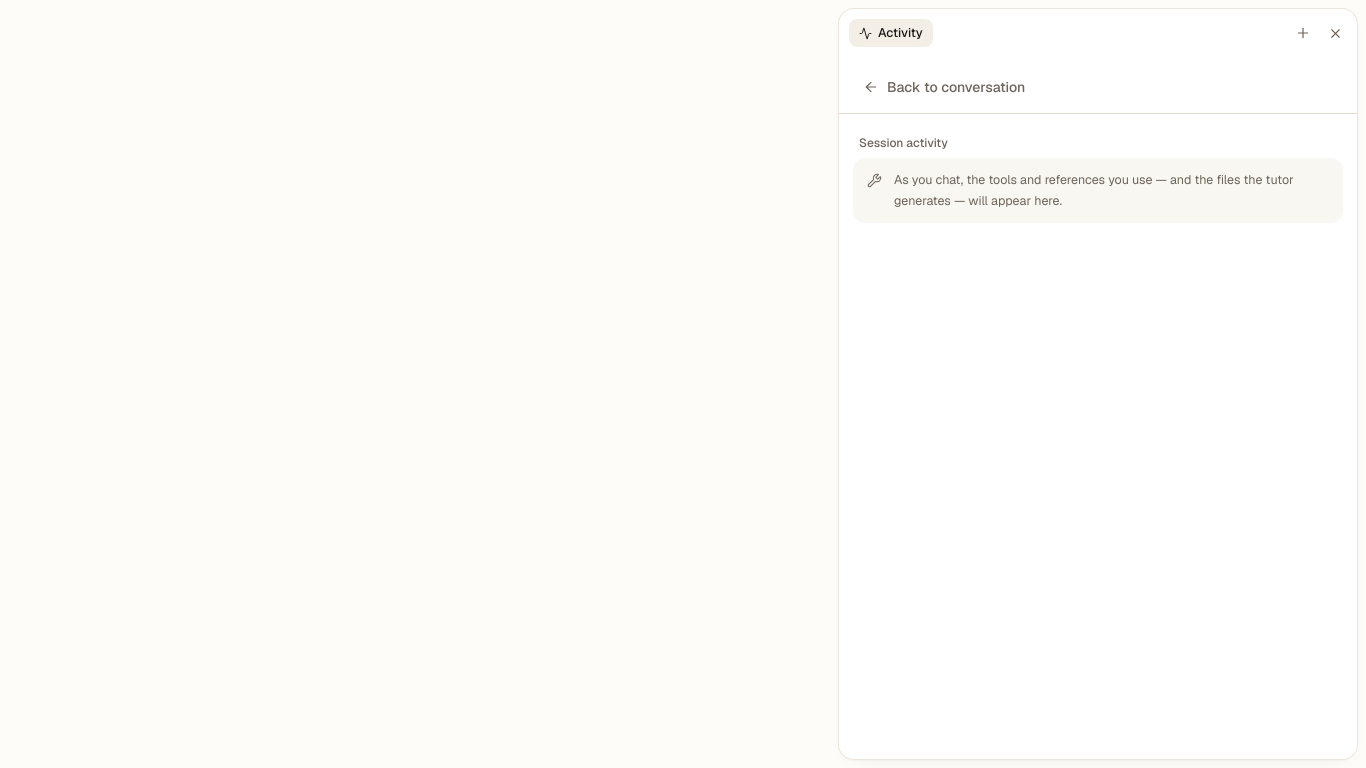
Test: names every tool on the launcher, and opening things lives there alone
Expected: the button "Back to conversation" is shown, [853,69,1035,105]
Expected: the text "Open a local file" is not shown
Click the button named "New tab".
click(1303, 33)  # box [1289,19,1317,47]
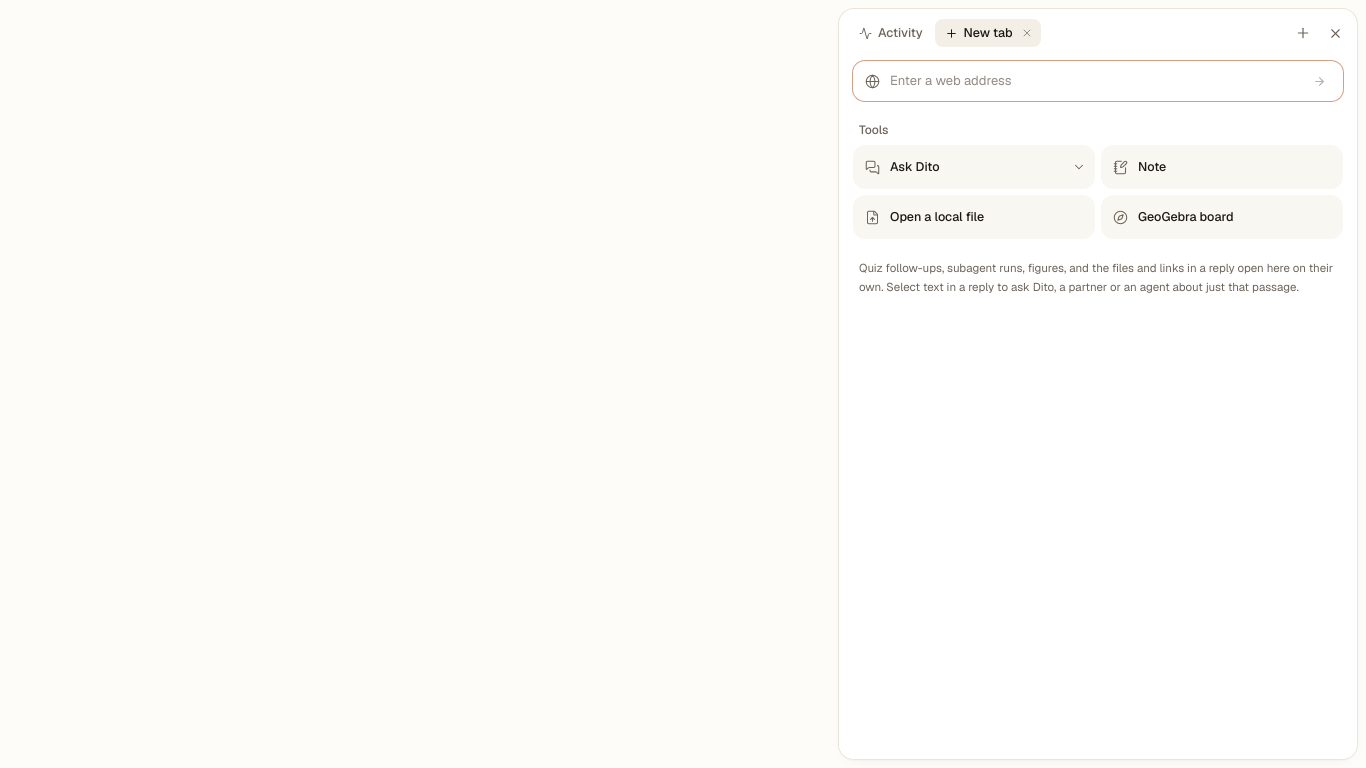
Result: the field named "Open URL" is shown at [890,71,1297,91]
Click the button named "Ask someone else".
click(1079, 167)  # box [1063,145,1095,189]
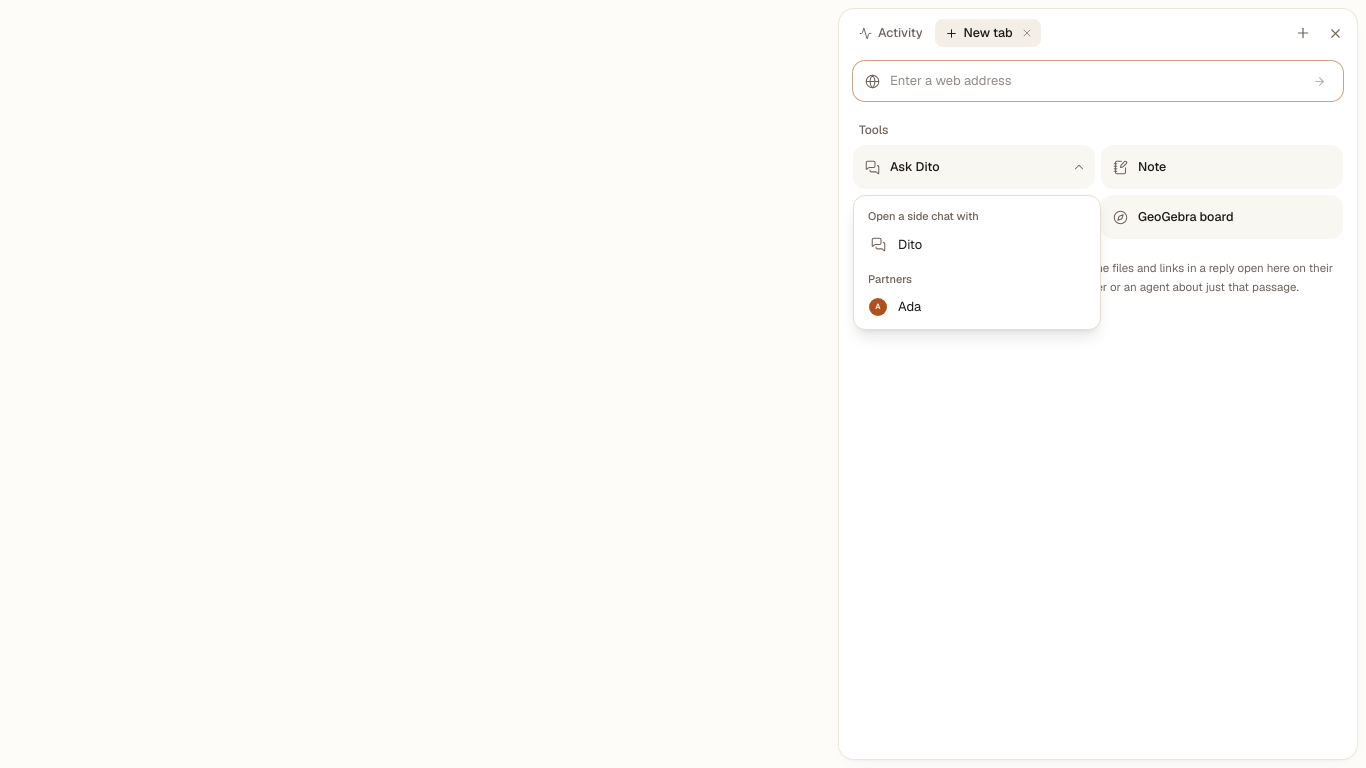
Result: the menu item "A Ada" is shown
Click the menu item "A Ada".
click(977, 307)  # box [858,291,1096,323]
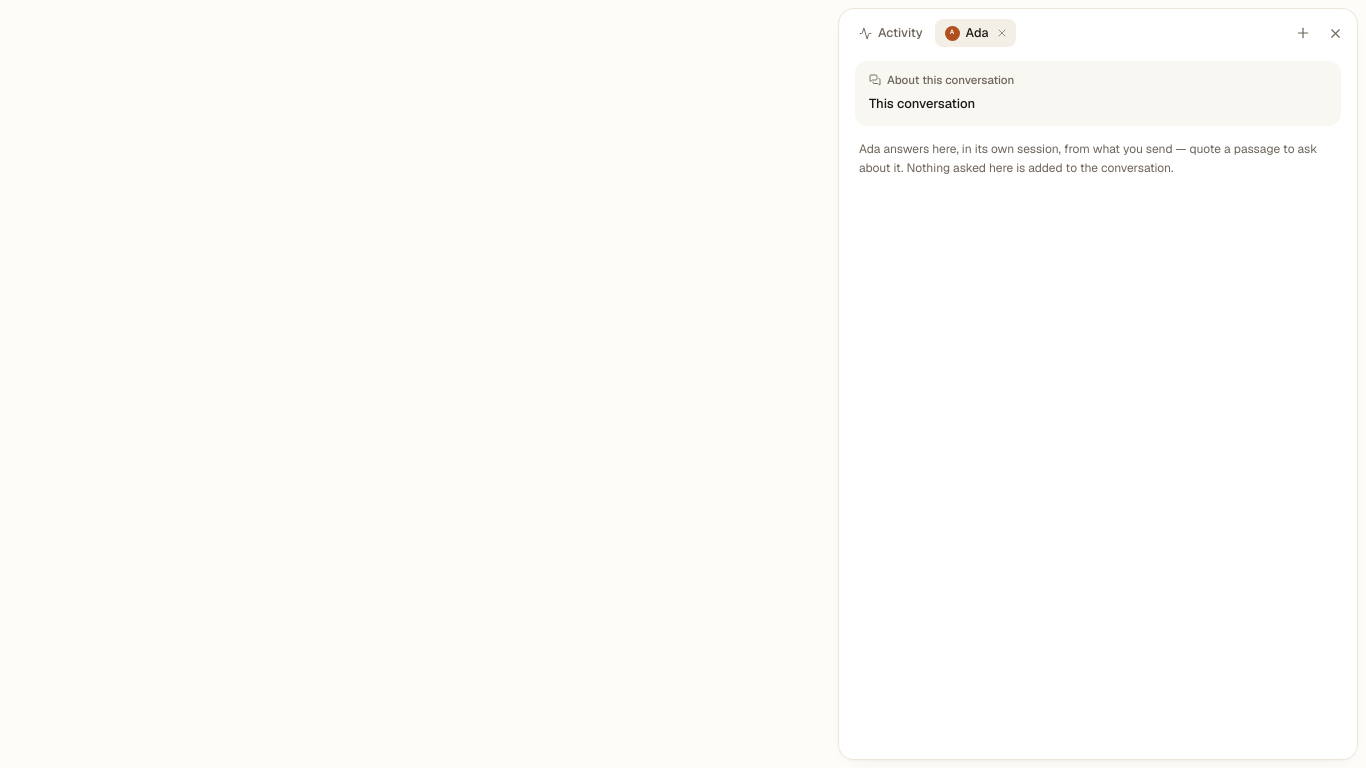
Result: the button "A Ada" is shown at [935,19,992,47]
Result: the text "Ada answers here" is shown at [859,141,1317,176]
Click the button named "New tab".
click(1303, 33)  # box [1289,19,1317,47]
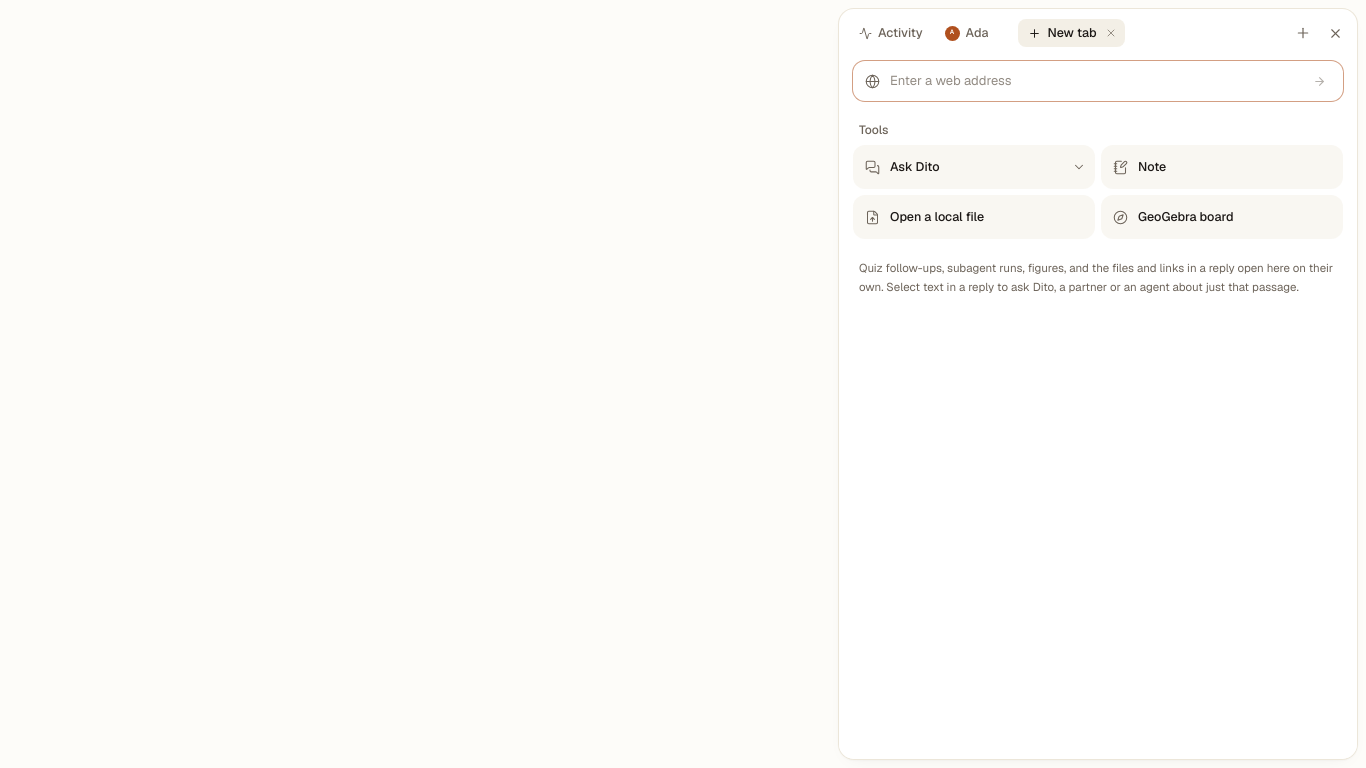
Result: the text "open here on their own" is shown at [859,260,1333,294]
